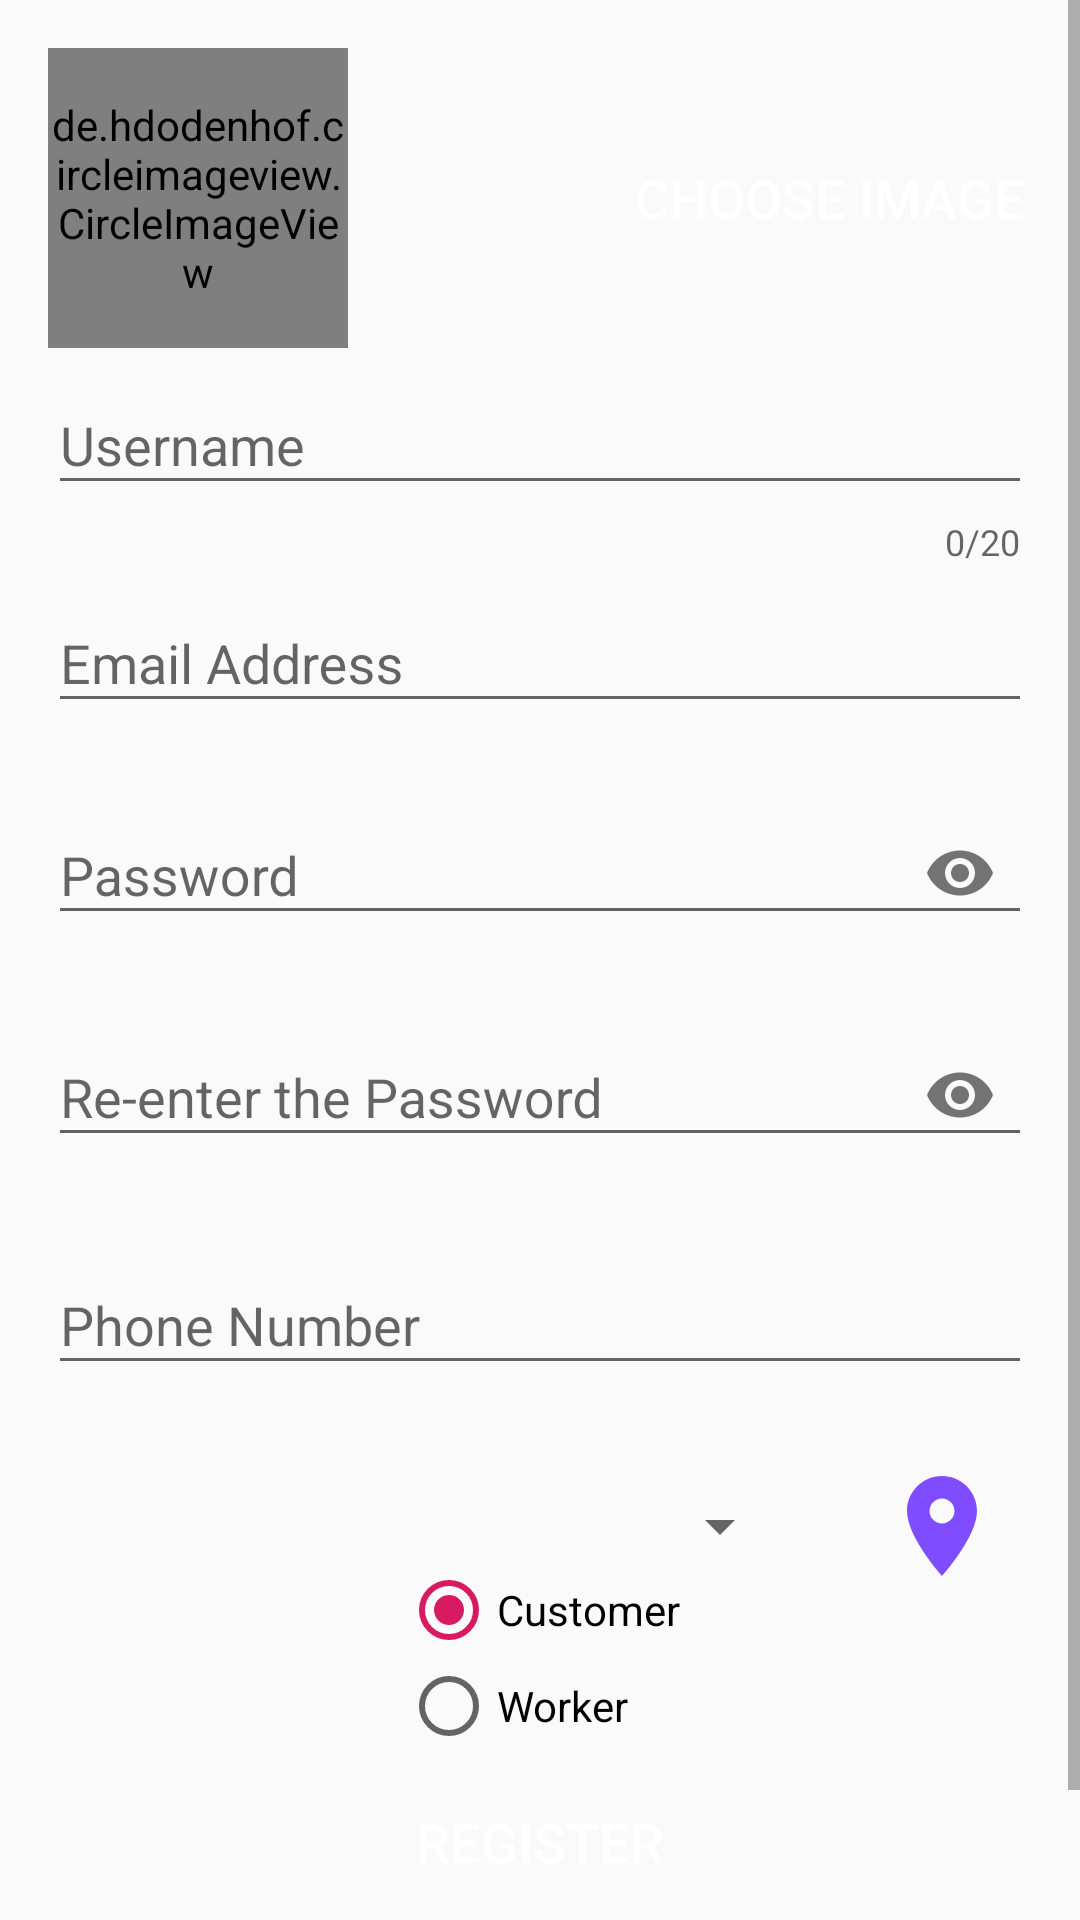

Icon bounding boxes for this 1080 × 1920 phone screenshot, format [x1,y1,x2,y2]:
location: [907,1476,977,1576]
